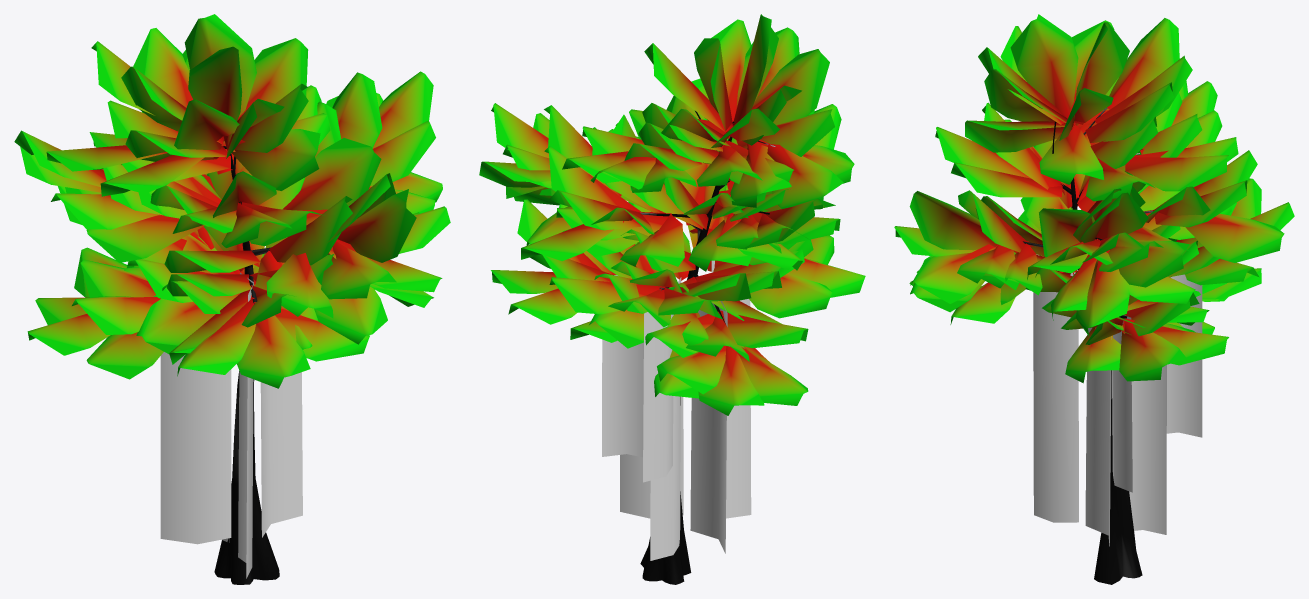
File: tree.fbx
3 renders of one model, left to right at view 1: azimuth 30°, elevation 25°; view 2: azimuth 150°, elevation 25°; view 3: azimuth 270°, elevation 25°, orthographic. The views are drawn at different scales.
Parts seen in each view (by area): view 1: Cecropia512; view 2: Cecropia512; view 3: Cecropia512.
Part boxes in pixels (x1,y1,x2,y2): Cecropia512: [14, 14, 450, 584]; Cecropia512: [479, 14, 865, 584]; Cecropia512: [894, 14, 1294, 584].
Bounding box in the file's own units: 330 × 473 × 326.
